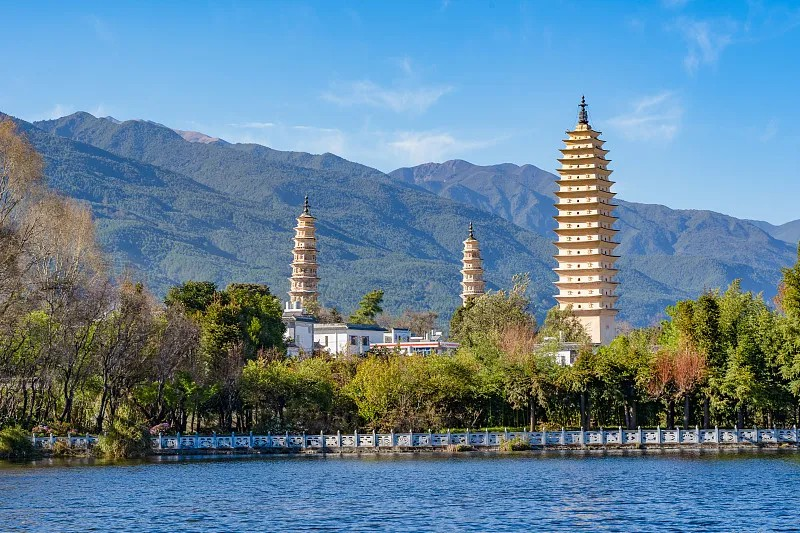ThreePagoda: (552, 95, 621, 348)
